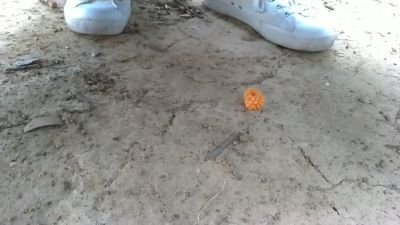eggs: (242, 84, 266, 114)
